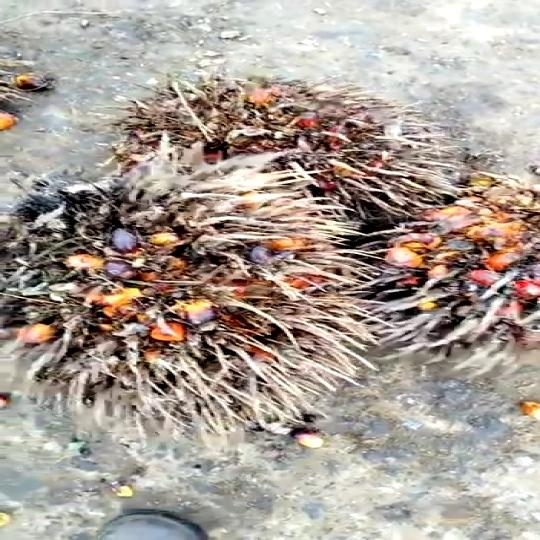terlalu masak: (0, 166, 392, 416), (130, 78, 458, 209)
